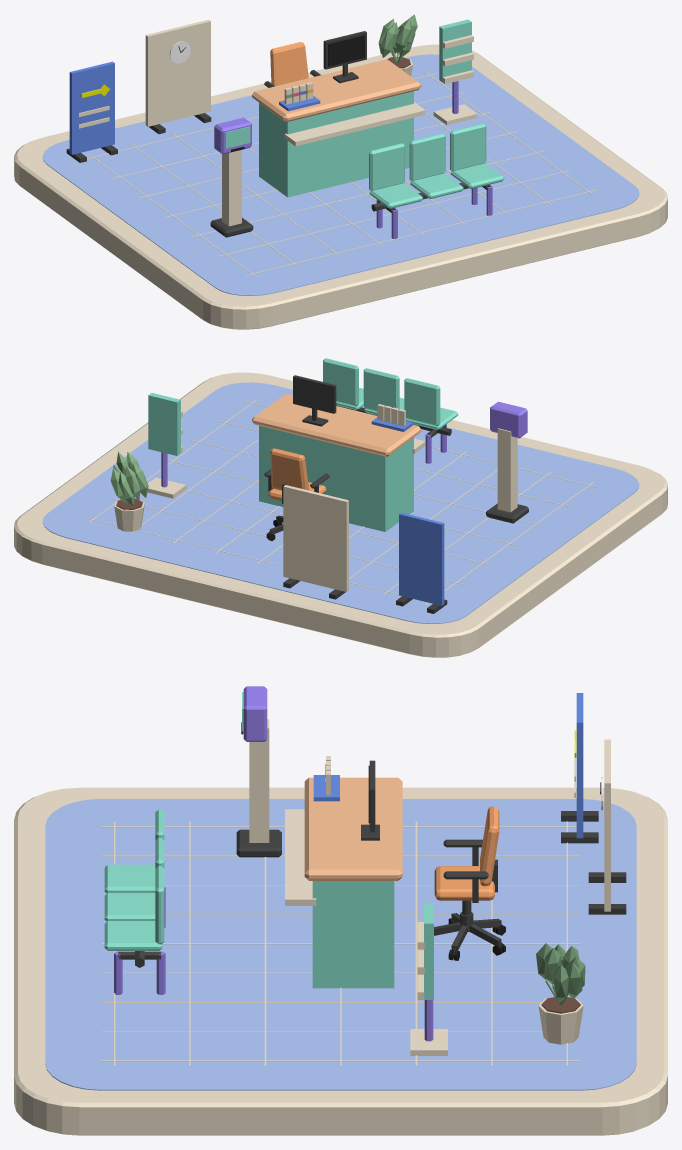
File: room.fbx
The picture shows the model from 3 angles, top to bottom: view 1: azimuth 30°, elevation 25°; view 2: azimuth 150°, elevation 25°; view 3: azimuth 270°, elevation 25°; orthographic projection. The views are drawn at different scales.
Parts seen in each view (by area): view 1: COM-02 Floor Surface, COM-01 Rounded Base Direct, Counter body, Panel.001, Countertop, Panel, Visitor shelf, Frame, Back.001, Back.002, COM-04_Chair_blender_direct, Back (+10 smaller); view 2: COM-02 Floor Surface, COM-01 Rounded Base Direct, Counter body, Panel.001, Countertop, Panel, Pot, COM-04_Chair_blender_direct, Pedestal, Frame, Back, Back.001 (+7 smaller); view 3: COM-02 Floor Surface, COM-01 Rounded Base Direct, Countertop, Counter body, COM-04_Chair_blender_direct, Pot, Pedestal, Visitor shelf, Seat.002, Seat, Seat.001, Display housing (+8 smaller).
Part boxes in pixels (x1,y1,x2,y2): COM-02 Floor Surface: (42,54,639,295); COM-01 Rounded Base Direct: (14,44,667,329); Counter body: (259,91,413,197); Panel.001: (145,19,210,126); Countertop: (252,59,421,122); Panel: (69,61,114,154); Visitor shelf: (284,102,425,146); Frame: (323,31,366,83); Back.001: (409,133,445,180); Back.002: (450,123,486,170); COM-04_Chair_blender_direct: (264,42,320,87); Back: (369,143,404,190); COM-02 Floor Surface: (42,382,639,623); COM-01 Rounded Base Direct: (14,372,667,657); Counter body: (259,425,413,531); Panel.001: (283,485,348,591); Countertop: (252,393,421,456); Panel: (399,512,444,605); Pot: (110,451,148,531); COM-04_Chair_blender_direct: (264,448,329,540); Pedestal: (497,428,517,512); Frame: (293,375,336,426); Back: (404,378,440,426); Back.001: (363,368,399,411); COM-02 Floor Surface: (45,799,636,1090); COM-01 Rounded Base Direct: (14,787,667,1135); Countertop: (304,777,402,880); Counter body: (312,881,394,988); COM-04_Chair_blender_direct: (434,806,505,960); Pot: (536,943,585,1044); Pedestal: (249,719,269,842); Visitor shelf: (285,809,316,905); Seat.002: (104,921,162,950); Seat: (104,864,155,893); Seat.001: (104,893,155,921); Display housing: (243,686,267,741).
Size of the model in its own units: 600 by 187 by 520.
